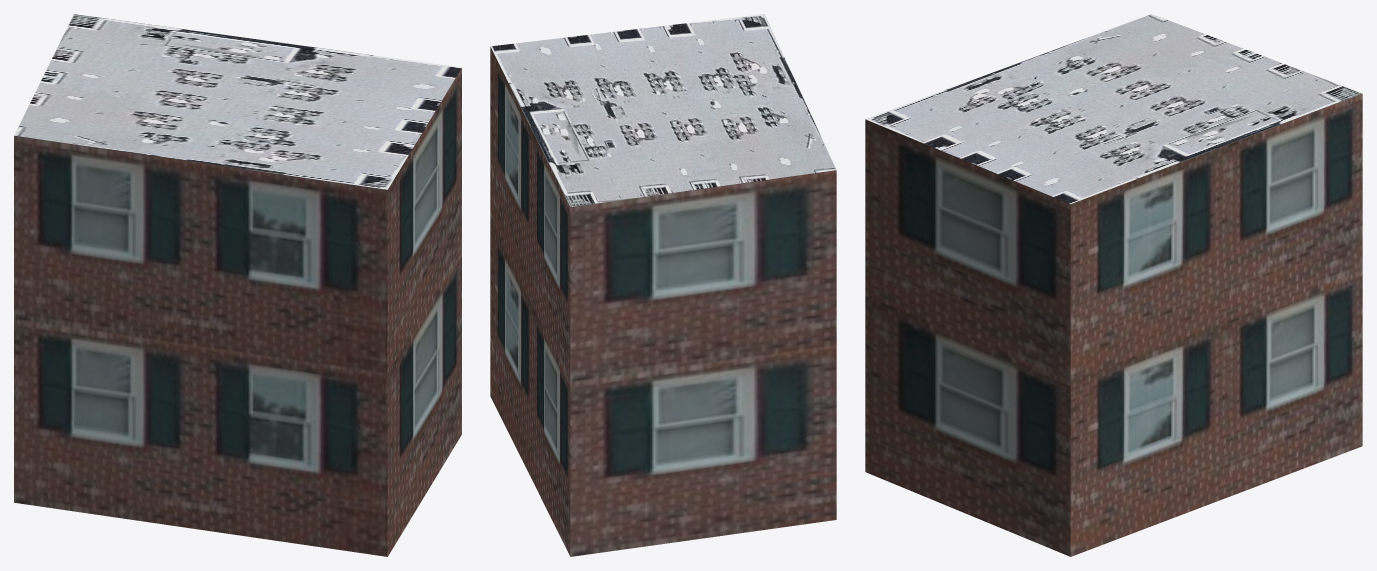
File: ResTex__4743.fbx
3 views of the same model, side by side, from view 1: azimuth 30°, elevation 25°; view 2: azimuth 150°, elevation 25°; view 3: azimuth 270°, elevation 25° (orthographic). The views are drawn at different scales.
Parts seen in each view (by area): view 1: CityEngineMaterial_14_m, CityEngineMaterial_2_m; view 2: CityEngineMaterial_14_m, CityEngineMaterial_2_m; view 3: CityEngineMaterial_14_m, CityEngineMaterial_2_m.
Boxes of the visible parts, box(x1,y1,x2,y2) form: CityEngineMaterial_14_m: box(14, 68, 461, 556); CityEngineMaterial_2_m: box(14, 14, 461, 189); CityEngineMaterial_14_m: box(490, 47, 836, 556); CityEngineMaterial_2_m: box(490, 14, 836, 206); CityEngineMaterial_14_m: box(865, 93, 1362, 556); CityEngineMaterial_2_m: box(866, 14, 1361, 203).
Size of the model in its own units: 6.94 by 6 by 7.66.
2 materials, 2 textured.
